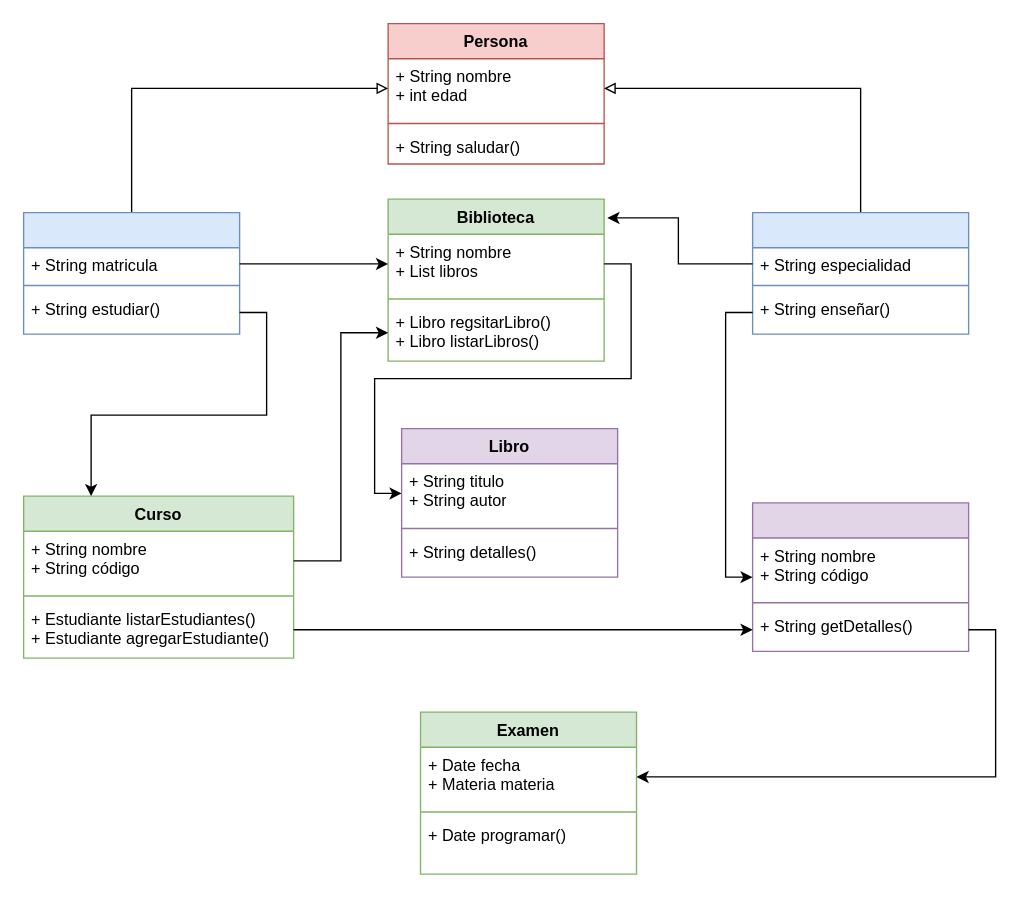
Image size: 1030x902. Some labels were removed from this diagram. The box of each missing label's shape, as (x1, y1, x2, y2) in pixels:
Estudiante: (22, 211, 240, 334)
Materia: (751, 502, 969, 651)
Profesor: (751, 211, 969, 334)
